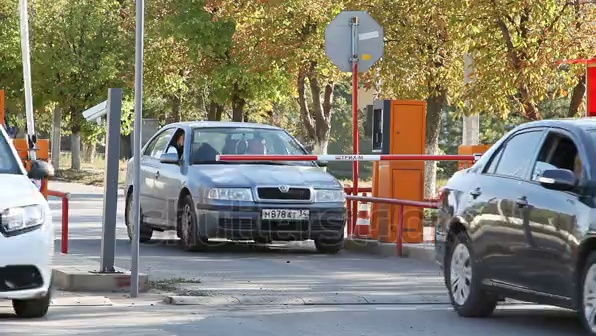licenseplate: (258, 206, 313, 222)
